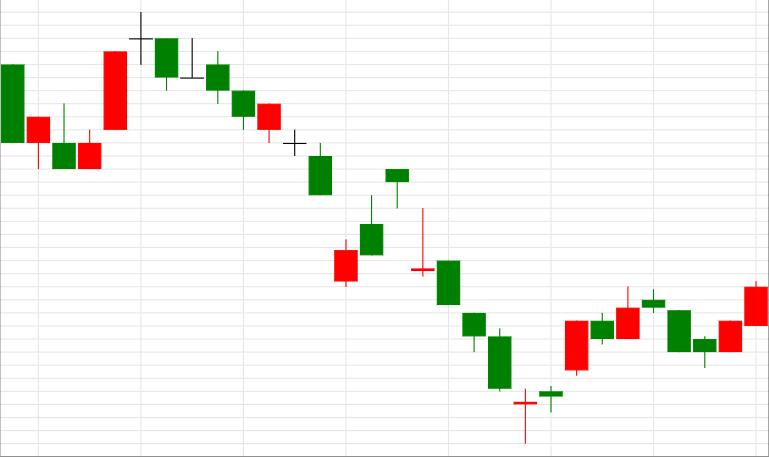evening_star_fall: (514, 286, 691, 443), (52, 12, 178, 169)
